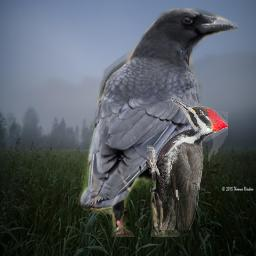Crow: (76, 8, 238, 237)
Woodpecker: (147, 96, 228, 230)
